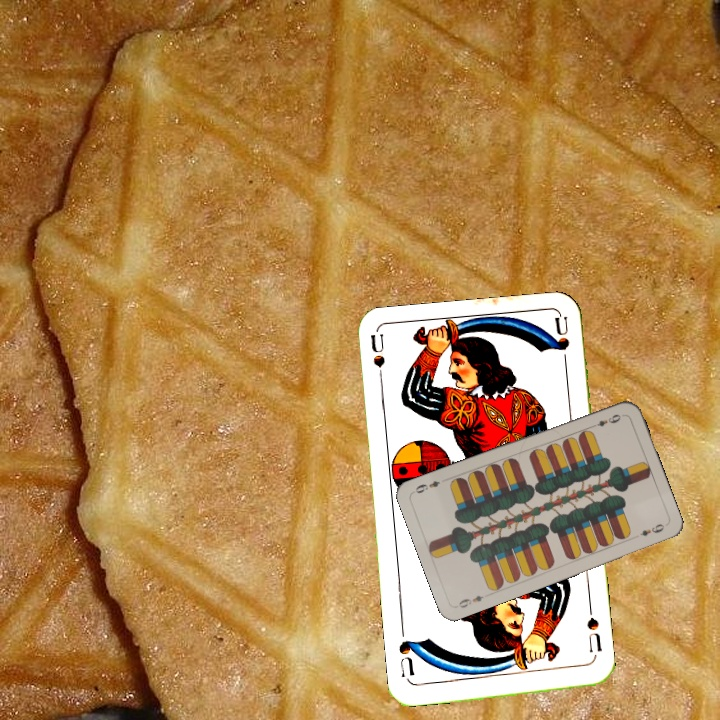E9: (454, 591, 487, 611), (593, 410, 624, 429)
SU: (367, 332, 388, 391), (583, 613, 604, 655)
